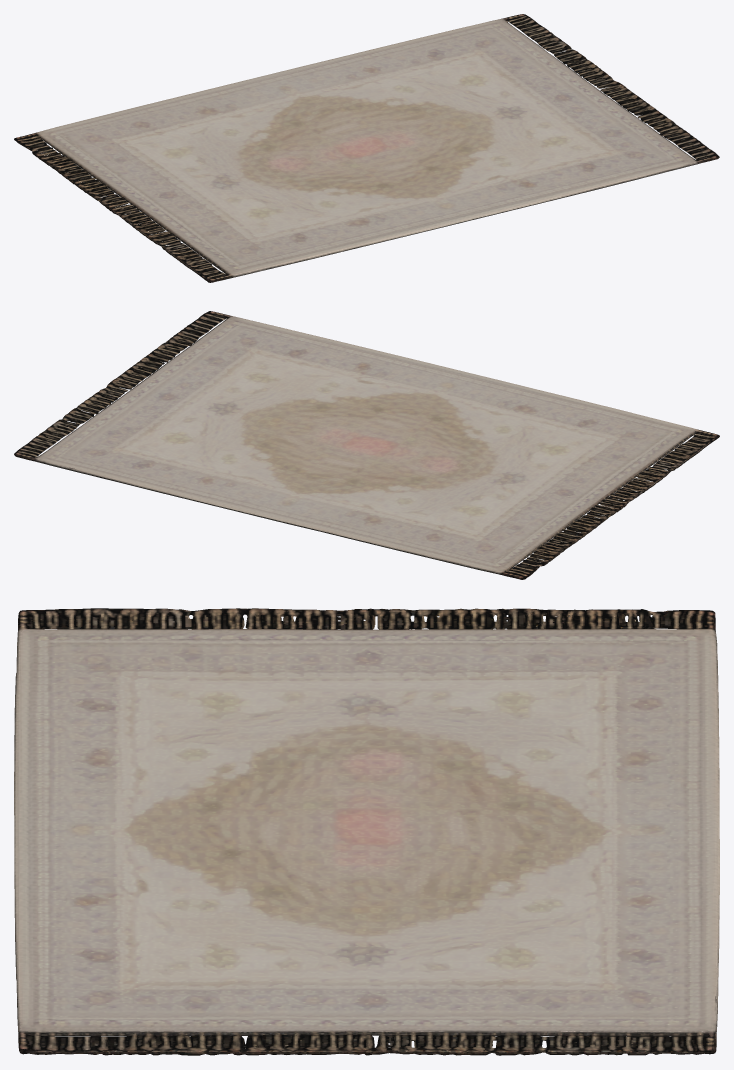
File: Area Rug.glb
3 views of the same model, one above another, from view 1: azimuth 30°, elevation 25°; view 2: azimuth 150°, elevation 25°; view 3: azimuth 270°, elevation 25° (orthographic). The views are drawn at different scales.
Visible parts, largest first — view 1: world; view 2: world; view 3: world.
Part boxes in pixels (<box>): world: <box>14,14,719,282</box>; world: <box>14,311,719,579</box>; world: <box>14,608,719,1055</box>.
Size of the model in its own units: 1 by 0.00621 by 0.6728.
Materials: 1 (1 with a texture image).
